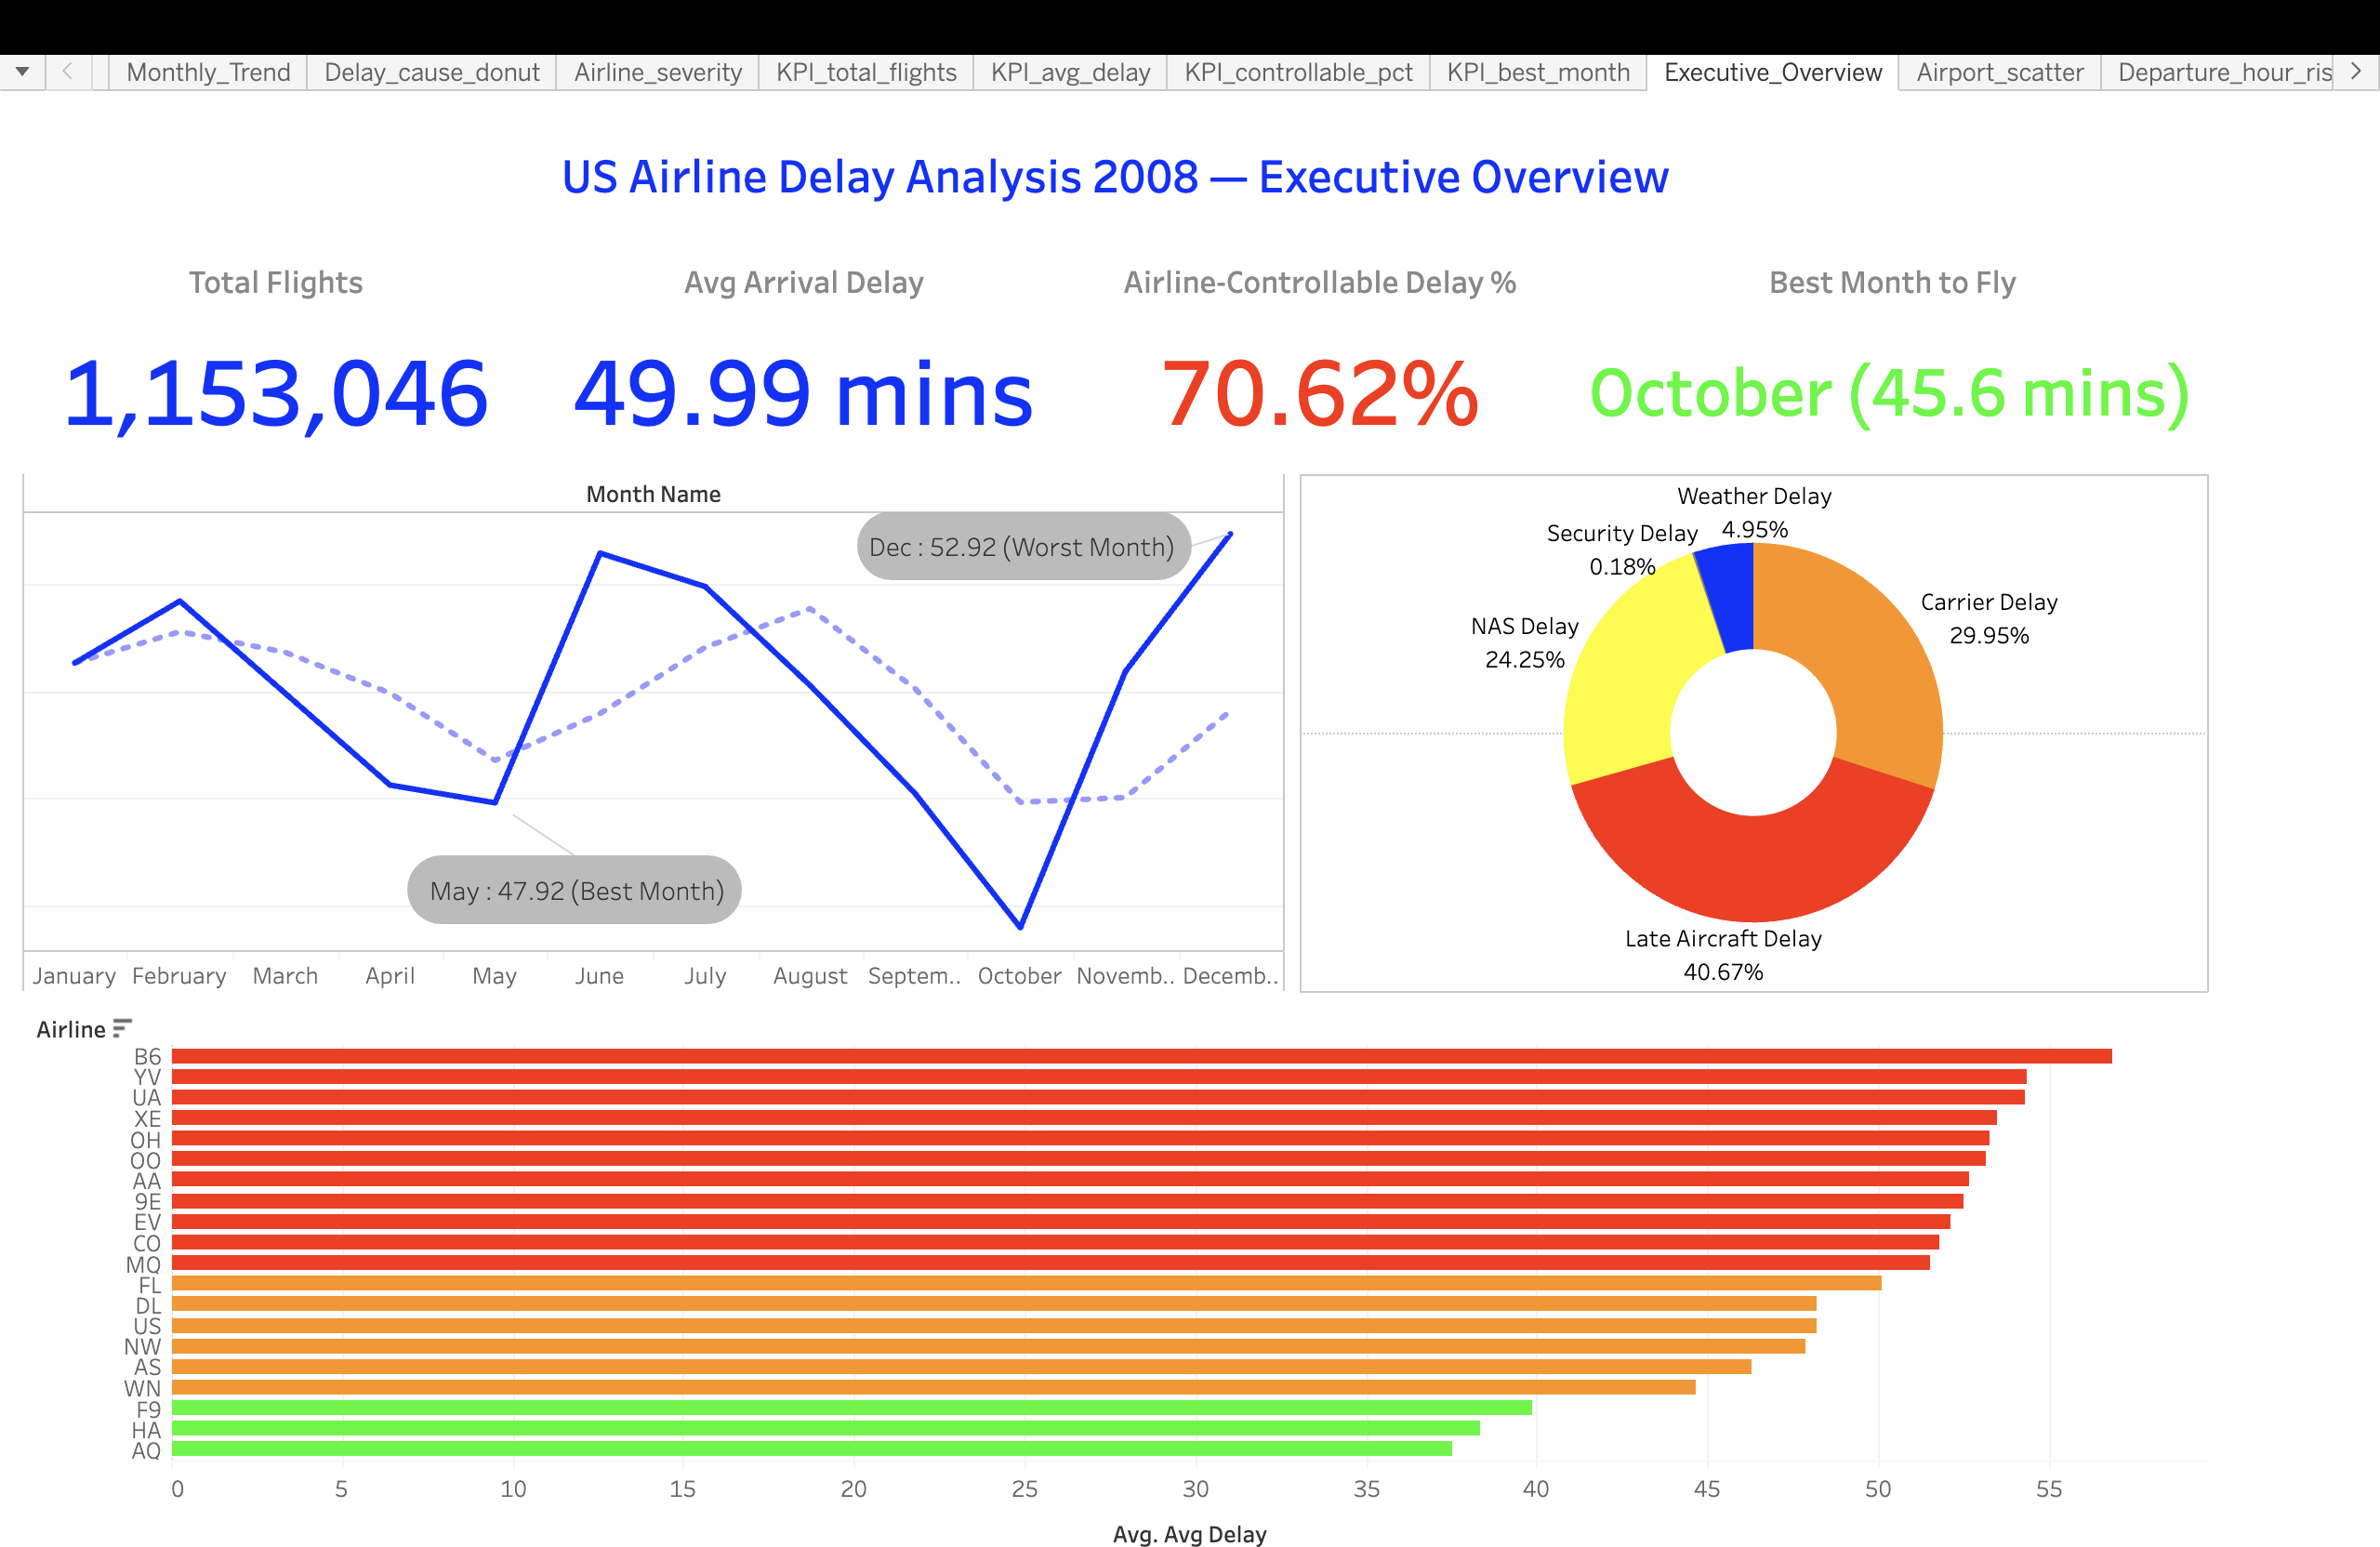

The dashboard page shown, as its layout file describes it:
{"tool":"tableau","page":{"name":"Executive_Overview","canvas":[1200,800],"ordinal":2},"visuals":[{"type":"text","box":[8,8,1184,70]},{"type":"worksheet","title":"KPI_total_flights","mark":"Text","box":[8,78,281,122]},{"type":"worksheet","title":"KPI_avg_delay","mark":"Text","box":[289,78,287,122]},{"type":"worksheet","title":"KPI_controllable_pct","mark":"Automatic","box":[576,78,268,122]},{"type":"worksheet","title":"KPI_best_month","mark":"Automatic","box":[844,78,348,122]},{"type":"worksheet","title":"Monthly_Trend","mark":"Line","rows":["Rolling_3m_Avg","Avg_Arr_Delay"],"cols":["Month_Name"],"box":[8,200,687,287]},{"type":"worksheet","title":"Delay_cause_donut","mark":"Pie","rows":["Calculation_4927271951003649","Calculation_4927271951040515"],"box":[695,200,497,287]},{"type":"worksheet","title":"Airline_severity","mark":"Automatic","rows":["Airline"],"cols":["Avg_Delay"],"box":[8,487,1184,305]}]}

Visuals, with their boxes on the page's 1200x800 design canvas (x1, y1, x2, y2). These are canvas units, not pixel positions in the 2380x1547 screenshot, which may show the page scaled, cropped or inside an application window:
text: 8:8:1192:78
"KPI_total_flights" worksheet (Text marks): 8:78:289:200
"KPI_avg_delay" worksheet (Text marks): 289:78:576:200
"KPI_controllable_pct" worksheet: 576:78:844:200
"KPI_best_month" worksheet: 844:78:1192:200
"Monthly_Trend" worksheet (Line marks): 8:200:695:487
"Delay_cause_donut" worksheet (Pie marks): 695:200:1192:487
"Airline_severity" worksheet: 8:487:1192:792
